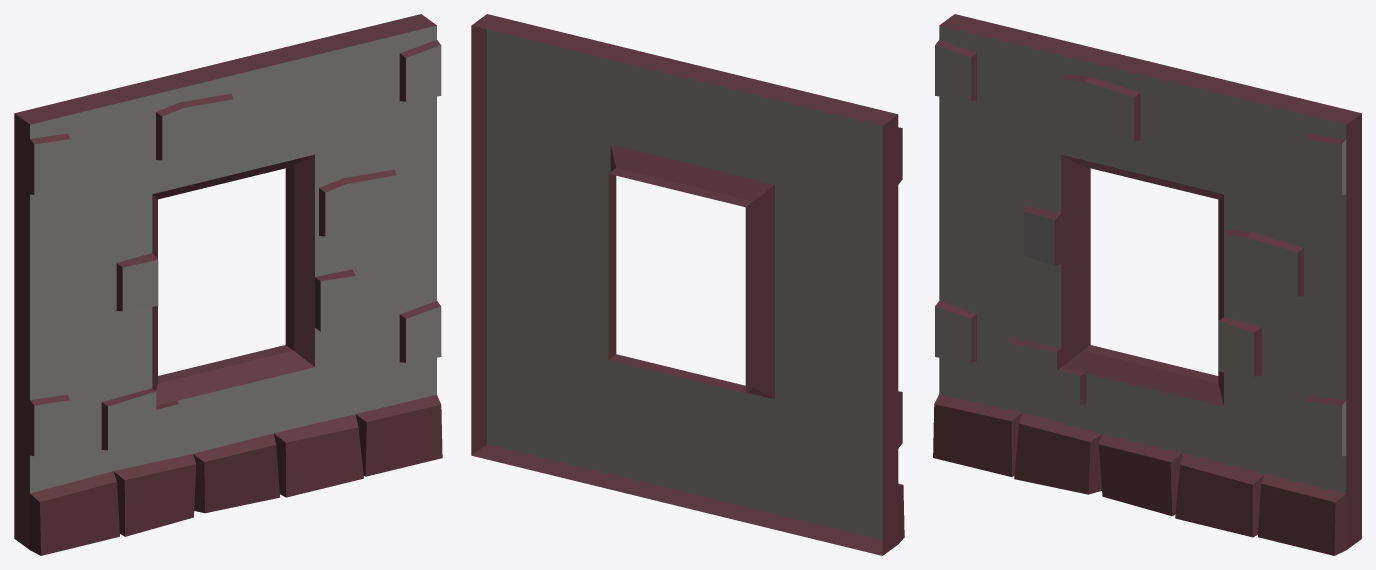
The model's file is wall-stone-window-3x3m-b.fbx.
3 views of the same model, side by side, from view 1: azimuth 30°, elevation 25°; view 2: azimuth 150°, elevation 25°; view 3: azimuth 330°, elevation 25° (orthographic).
Visible parts, largest first — view 1: wall-stone-window-3x3m-b; view 2: wall-stone-window-3x3m-b; view 3: wall-stone-window-3x3m-b.
Part boxes in pixels (x1=…): wall-stone-window-3x3m-b: x1=14, y1=14, x2=442, y2=555; wall-stone-window-3x3m-b: x1=471, y1=14, x2=904, y2=555; wall-stone-window-3x3m-b: x1=933, y1=14, x2=1361, y2=555.
Bounding box in the file's own units: 3 × 3 × 0.3284.
